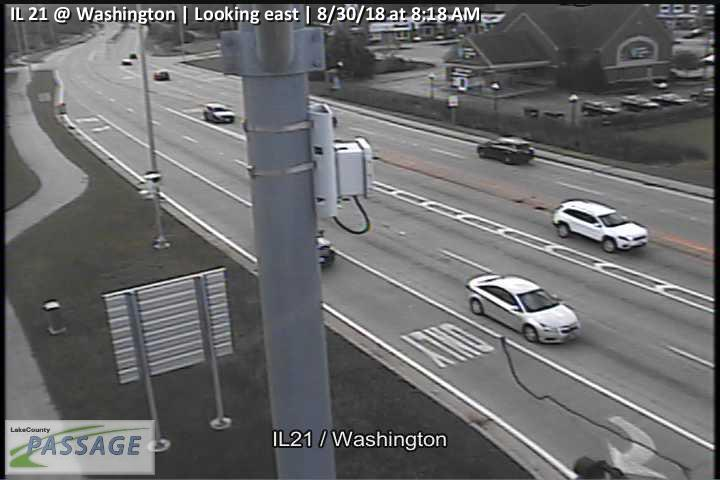SUV: (551, 198, 650, 253), (476, 137, 535, 164), (203, 103, 236, 123)
Sedan: (464, 273, 581, 344)
